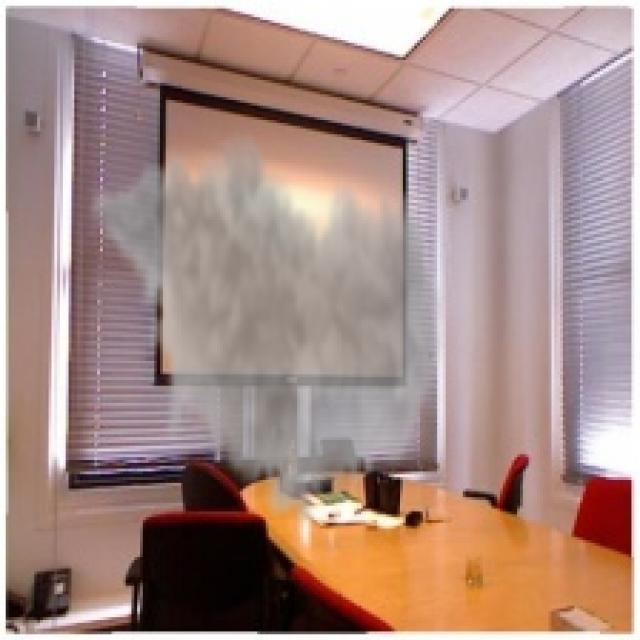Smoke: (86, 122, 446, 534)
